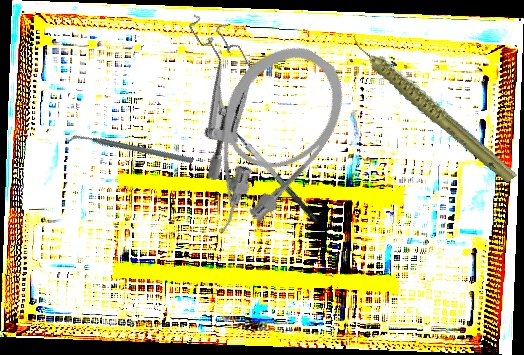Cannula: (164, 27, 364, 253)
Chopper: (67, 93, 195, 207)
Handpiece: (347, 2, 520, 211)
Spatula Surgical: (210, 110, 321, 233)
Speculum: (138, 0, 292, 183)
